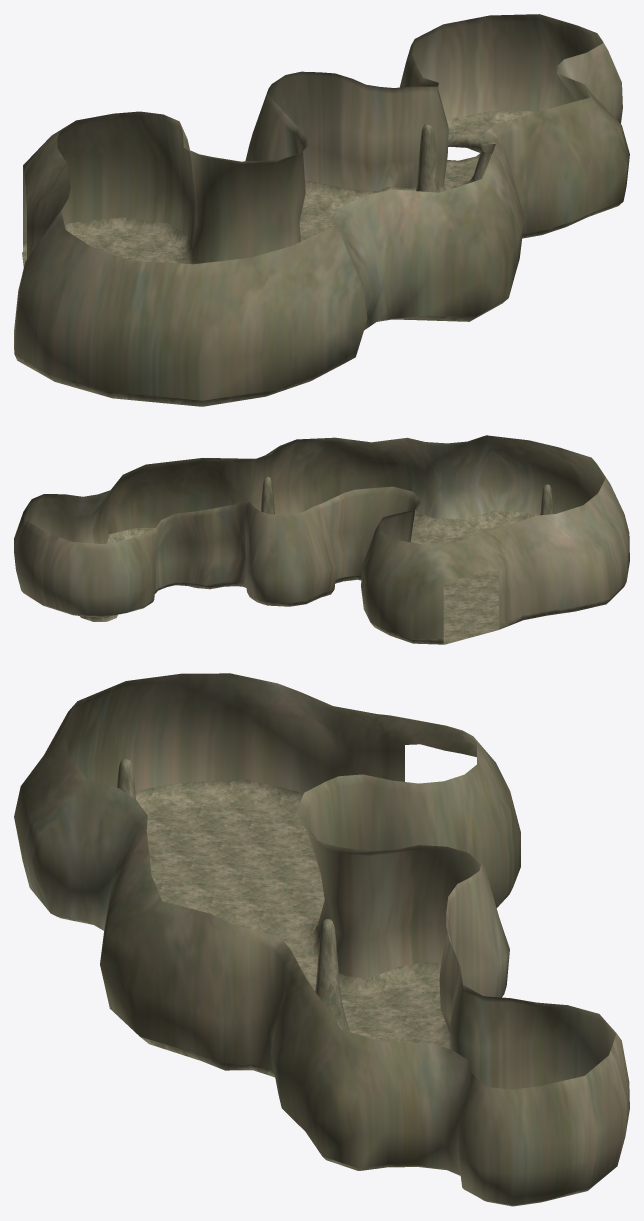
The model's file is OVERHILL_A_01_TREASURE_CAVE_01.fbx.
3 views of the same model, one above another, from view 1: azimuth 30°, elevation 25°; view 2: azimuth 150°, elevation 25°; view 3: azimuth 270°, elevation 25° (orthographic). The views are drawn at different scales.
Visible parts, largest first — view 1: OVERHILL_A_01_TREASURE_CAVE_01; view 2: OVERHILL_A_01_TREASURE_CAVE_01; view 3: OVERHILL_A_01_TREASURE_CAVE_01.
Boxes of the visible parts, x1=… form: OVERHILL_A_01_TREASURE_CAVE_01: x1=14, y1=14, x2=629, y2=406; OVERHILL_A_01_TREASURE_CAVE_01: x1=14, y1=435, x2=629, y2=644; OVERHILL_A_01_TREASURE_CAVE_01: x1=14, y1=673, x2=629, y2=1206.
Bounding box in the file's own units: 389675 × 91038 × 263521.
Materials: 2 (2 with a texture image).
